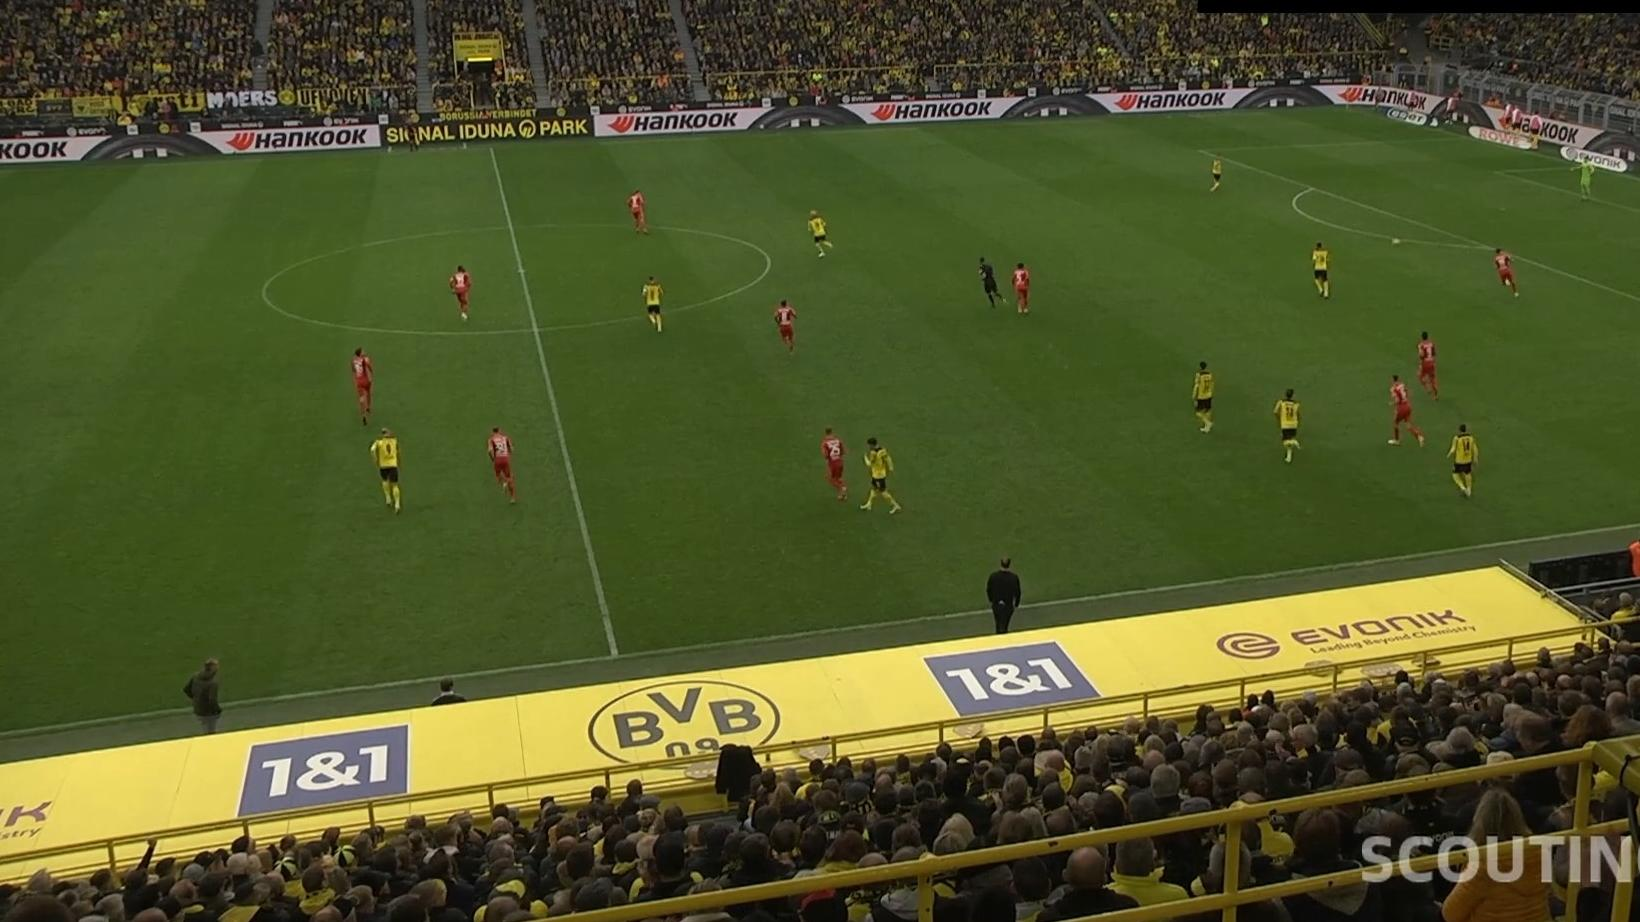ball: (1390, 236, 1401, 248)
